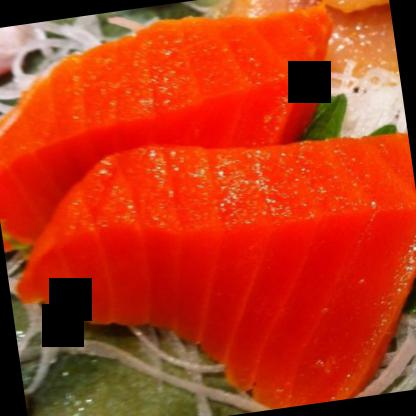salmon: (6, 109, 415, 415), (0, 2, 360, 253)
